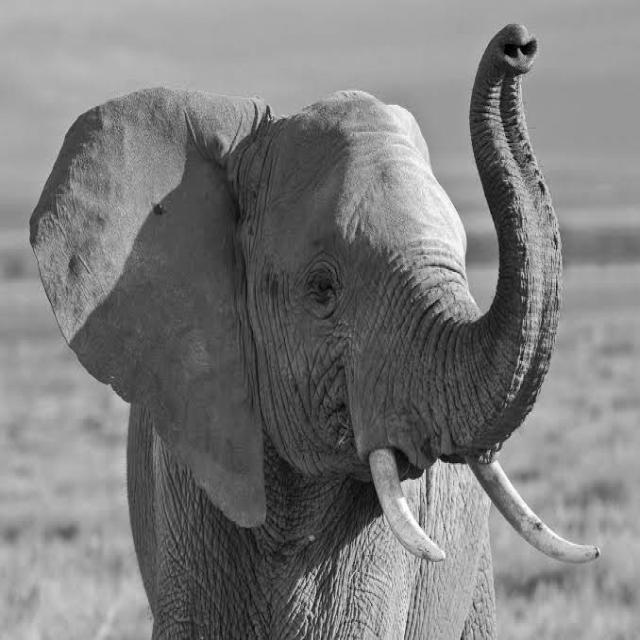Elephant: (28, 21, 600, 639)
